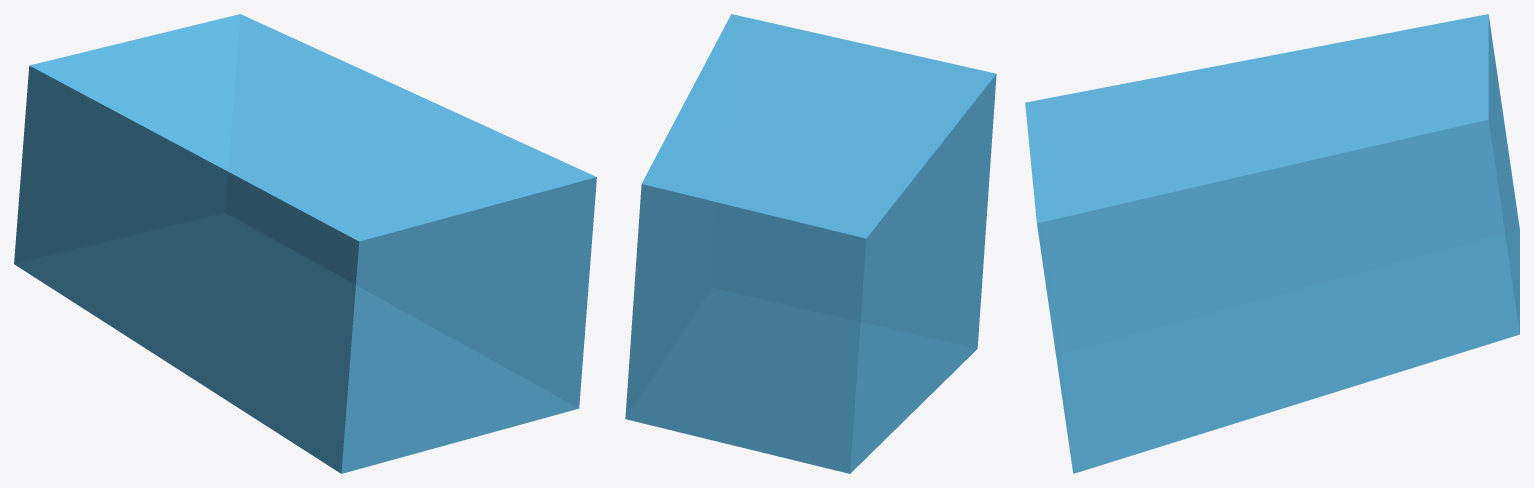
Rendered from Event_420094457_HBrechit_23.fbx.
3 renders of one model, left to right at view 1: azimuth 30°, elevation 25°; view 2: azimuth 150°, elevation 25°; view 3: azimuth 270°, elevation 25°, orthographic. The views are drawn at different scales.
Parts seen in each view (by area): view 1: Model; view 2: Model; view 3: Model.
Boxes of the visible parts, x1,y1,x2,y2 form: Model: (14, 14, 596, 473); Model: (625, 14, 996, 473); Model: (1025, 14, 1519, 473).
Size of the model in its own units: 0.6897 by 0.5339 by 0.8305.
